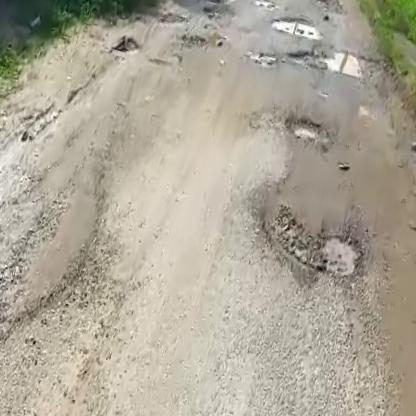pothole: (265, 214, 367, 282), (314, 44, 381, 85), (269, 12, 326, 44), (283, 112, 328, 149)
